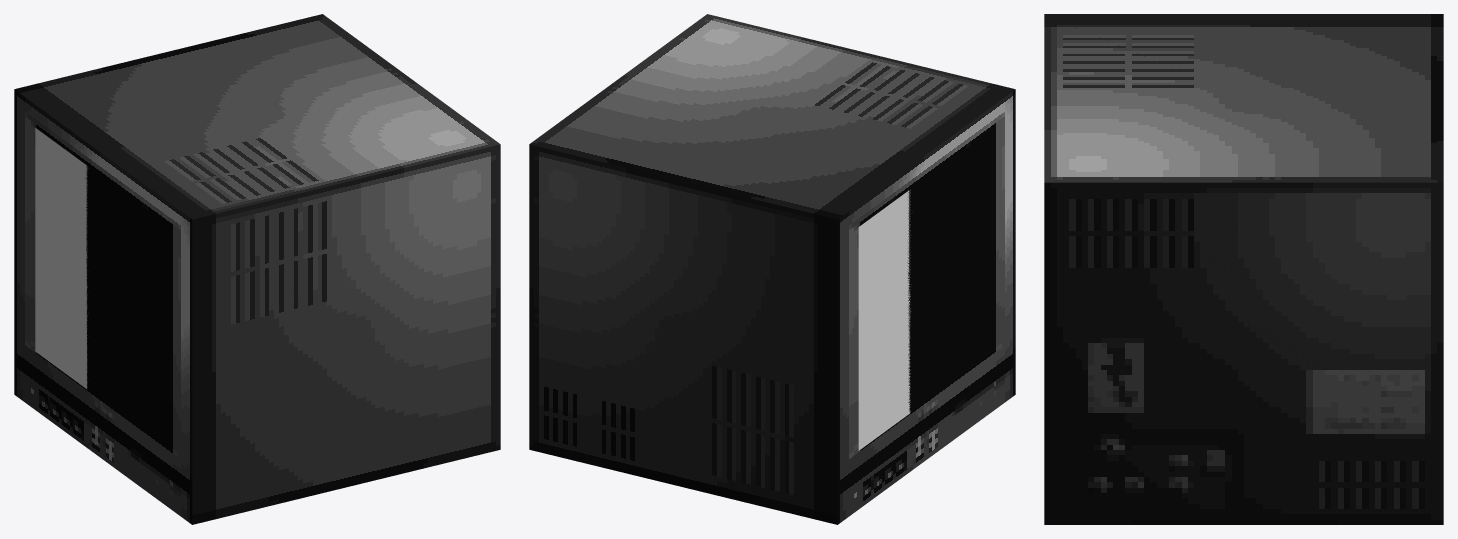
File: primary_189.glb
3 renders of one model, left to right at view 1: azimuth 30°, elevation 25°; view 2: azimuth 150°, elevation 25°; view 3: azimuth 270°, elevation 25°, orthographic. The views are drawn at different scales.
Parts seen in each view (by area): view 1: Object; view 2: Object; view 3: Object.
Boxes of the visible parts, <box> form: Object: <box>14,14,500,524</box>; Object: <box>529,14,1015,524</box>; Object: <box>1044,14,1443,524</box>.
Size of the model in its own units: 0.4614 by 0.4365 by 0.4614.
7 materials, 7 textured.
